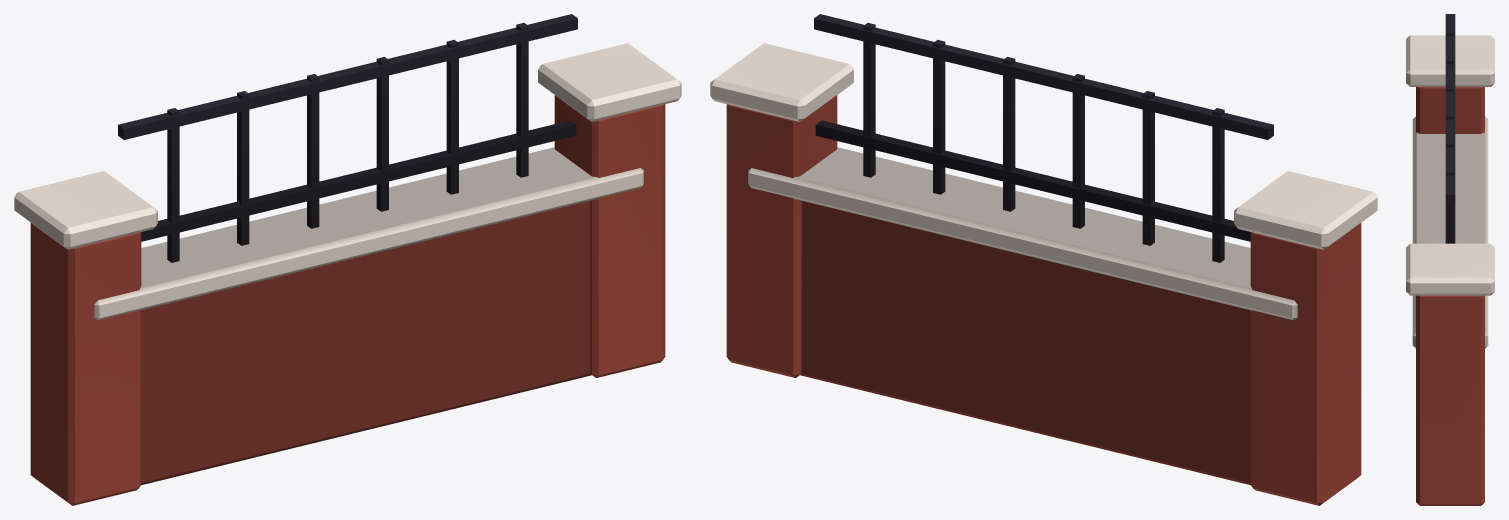
File: prop.cure-garden-wall.glb
3 views of the same model, side by side, from view 1: azimuth 30°, elevation 25°; view 2: azimuth 150°, elevation 25°; view 3: azimuth 270°, elevation 25° (orthographic). The views are drawn at different scales.
Parts seen in each view (by area): view 1: body; view 2: body; view 3: body.
Part boxes in pixels (x1,y1,x2,y2): body: (14, 14, 681, 505); body: (710, 14, 1377, 505); body: (1406, 14, 1494, 505).
Bounding box in the file's own units: 3.54 × 1.93 × 0.54.
